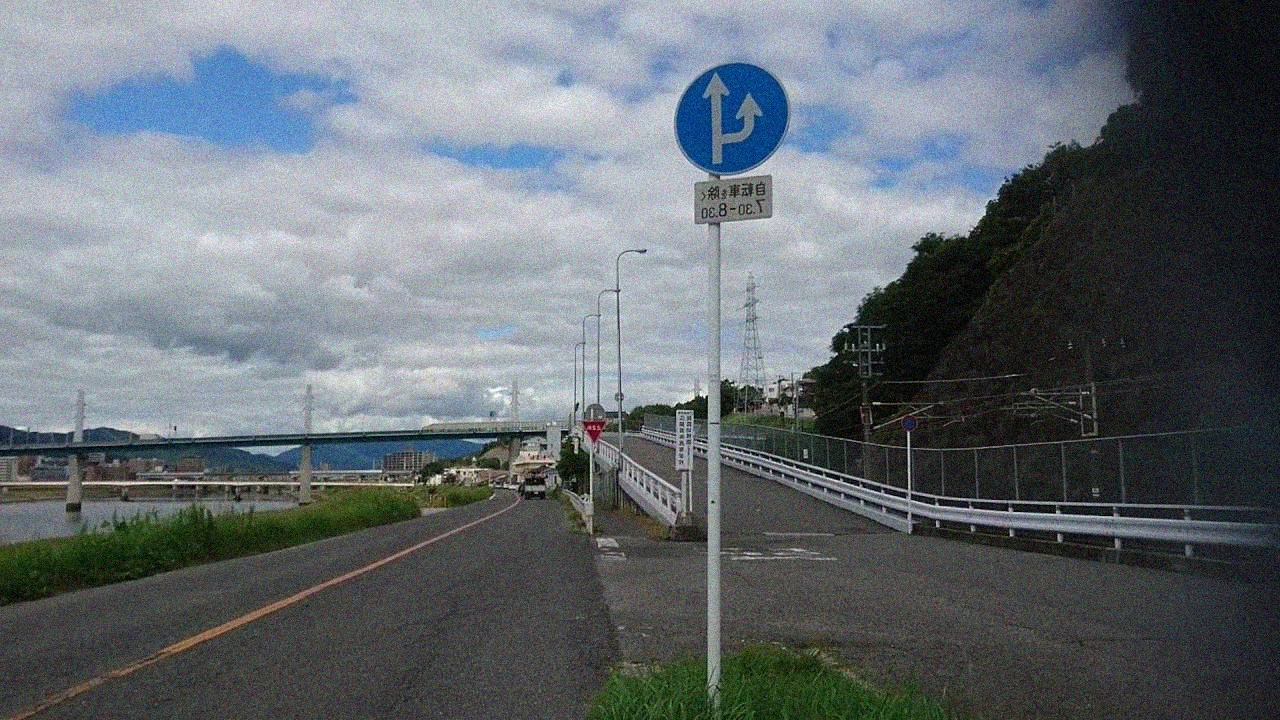Direction_sign: (658, 57, 798, 187)
